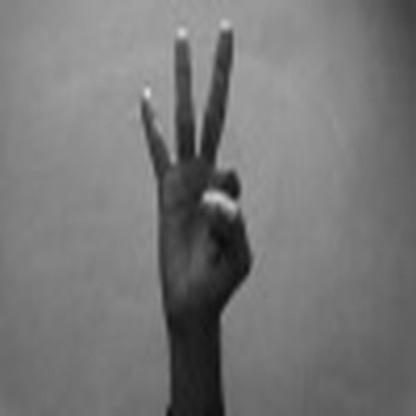f: (122, 15, 264, 295)
